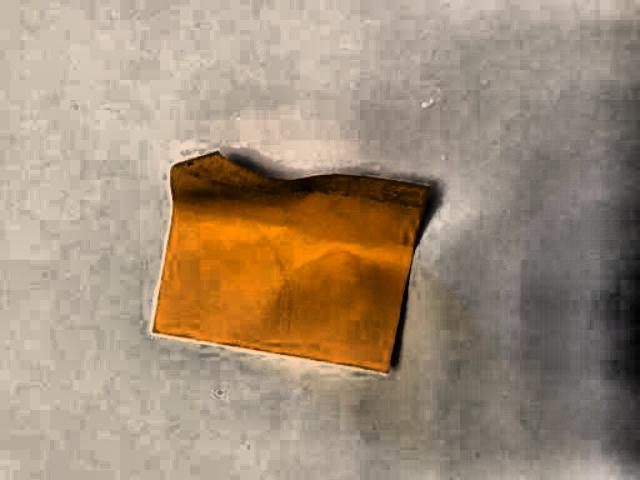Paper: (152, 147, 435, 377)
